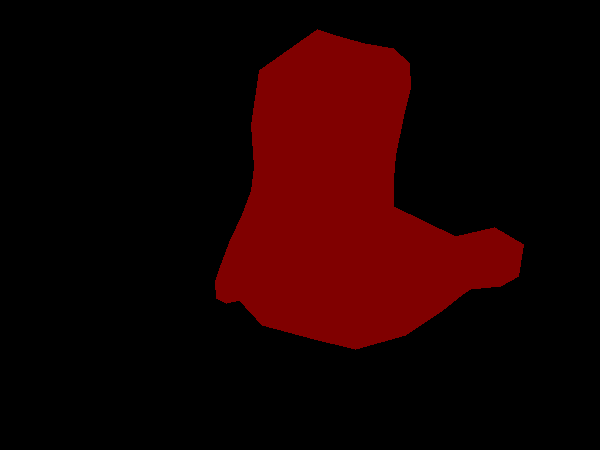fire: (215, 29, 523, 349)
